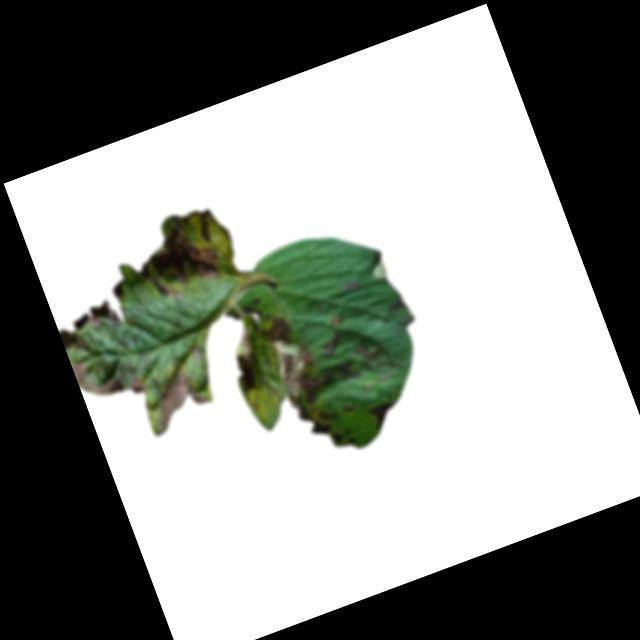Early_blight: (125, 198, 246, 309), (256, 309, 326, 413), (71, 342, 147, 414), (144, 358, 211, 430), (293, 400, 341, 455), (81, 297, 123, 337), (229, 350, 261, 397), (368, 400, 402, 430), (353, 340, 379, 368), (320, 337, 342, 358)
